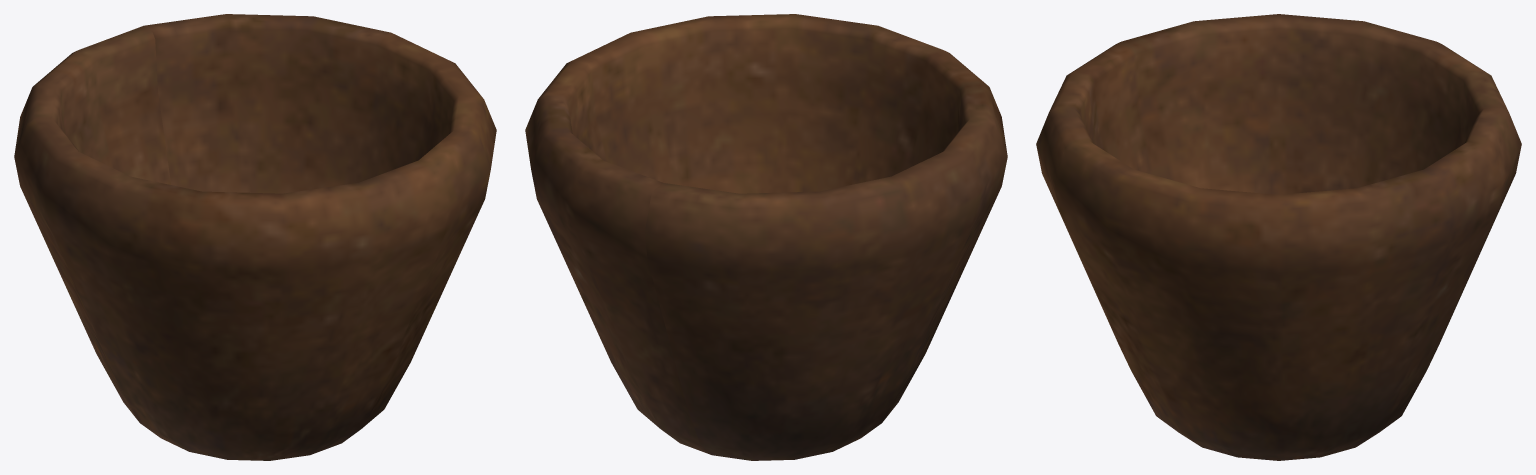
The model's file is mortar01.FBX.
3 renders of one model, left to right at view 1: azimuth 30°, elevation 25°; view 2: azimuth 150°, elevation 25°; view 3: azimuth 270°, elevation 25°, orthographic.
Visible parts, largest first — view 1: SM_Mortar01; view 2: SM_Mortar01; view 3: SM_Mortar01.
Boxes of the visible parts, x1,y1,x2,y2 form: SM_Mortar01: (14,14,496,460); SM_Mortar01: (525,14,1007,460); SM_Mortar01: (1036,14,1521,460).
Size of the model in its own units: 27.87 by 19.43 by 27.87.
1 material, 1 textured.
